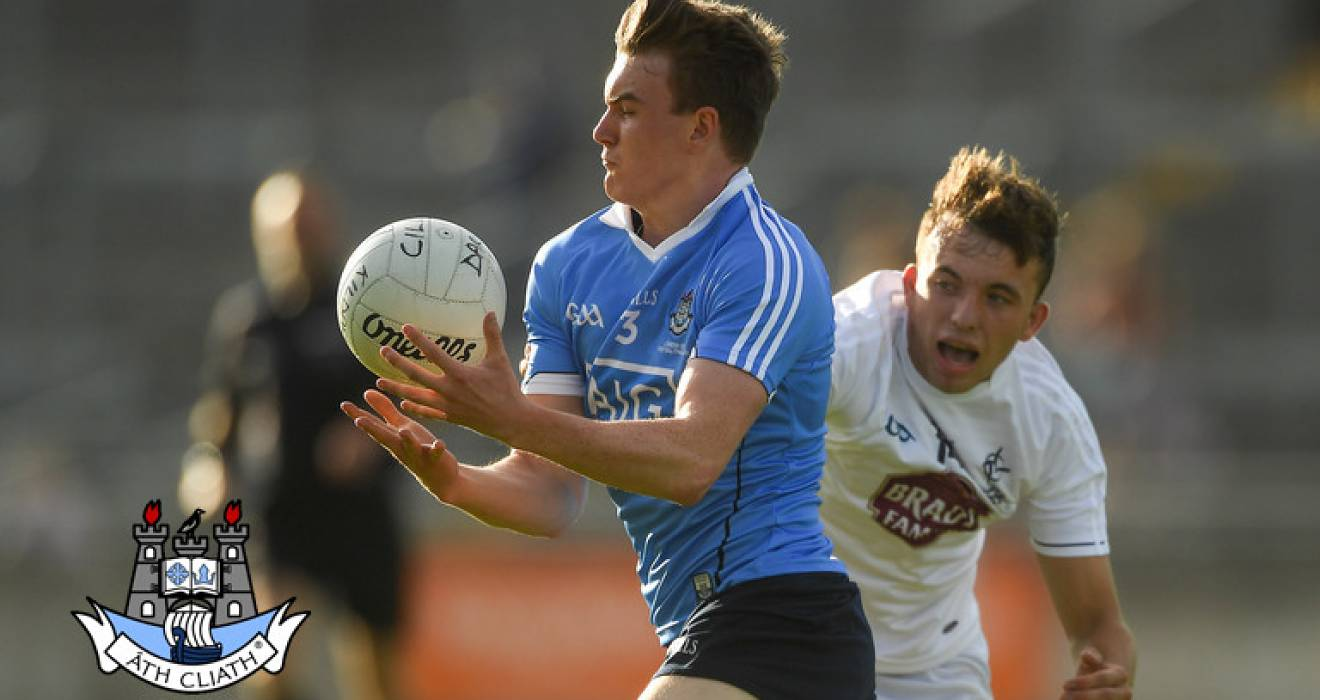ball: (326, 224, 507, 396)
player: (526, 1, 860, 673), (811, 138, 1155, 675)
